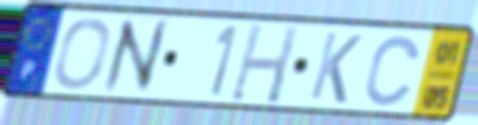1: (210, 24, 241, 101)
C: (362, 33, 424, 109)
H: (226, 21, 302, 107)
K: (306, 29, 366, 106)
N: (100, 16, 171, 97)
O: (50, 16, 114, 92)
